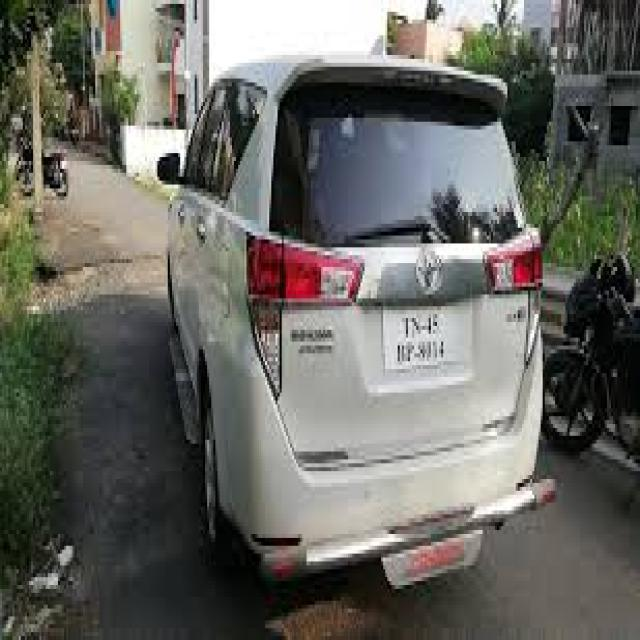light_vehicle: (166, 55, 558, 596)
